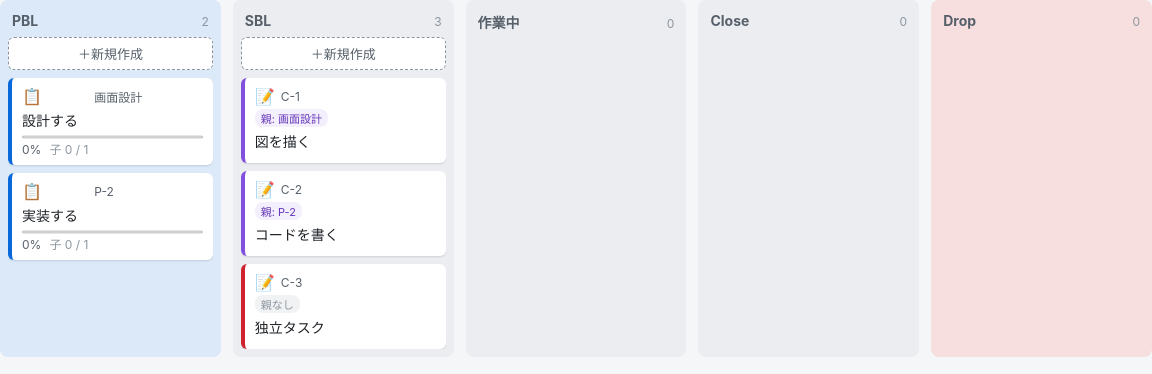
BoardView › 親アイテムによる絞り込み › フィルターバーに親のタイトルが表示され、✕チップで解除できる
Right-click the text "設計する": (50, 120) [22,112,78,129]
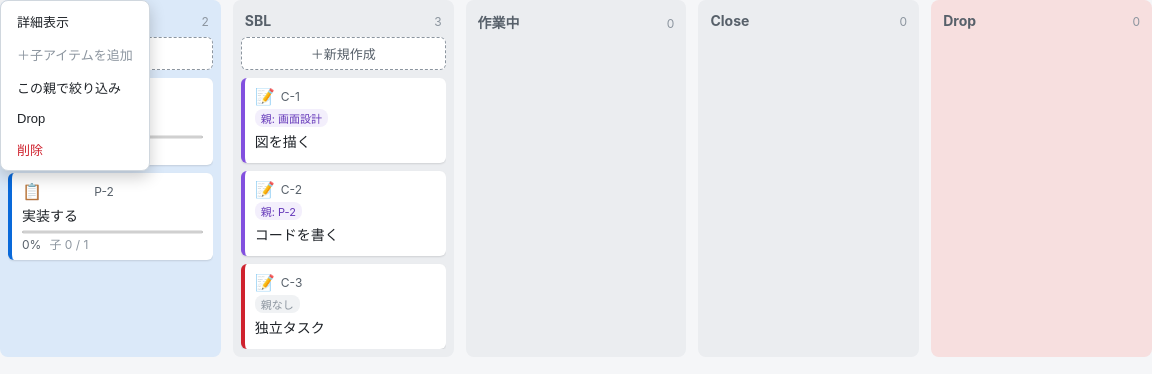
Click the menu item "この親で絞り込み": (75, 88) [5,71,145,104]
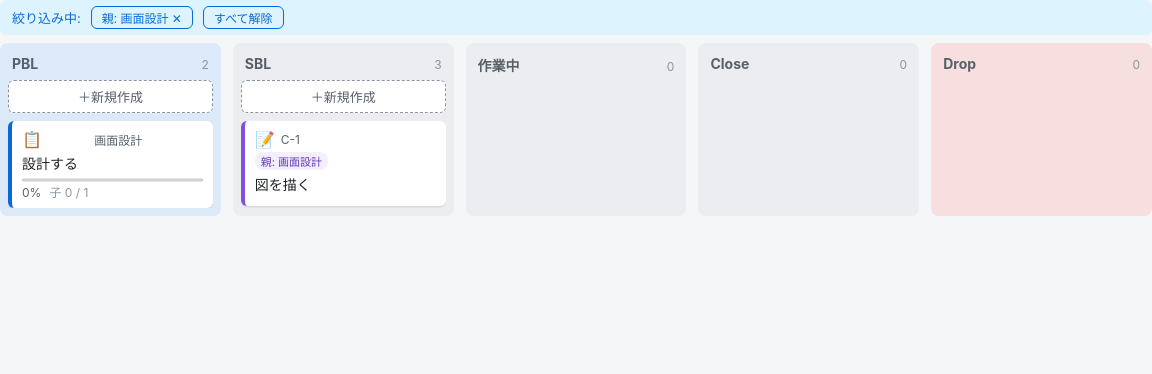
Expected: the button with aria-label "親アイテム「画面設計」の絞り込みを解除" shows "画面設計"
Click the button with aria-label "親アイテム「画面設計」の絞り込みを解除": (142, 18) [91,6,193,29]
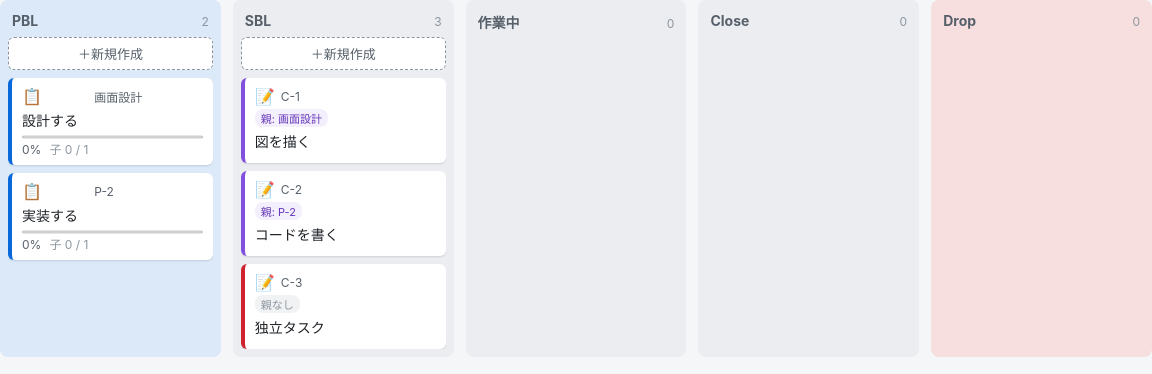
Expected: the text "実装する" is shown, [22,207,78,224]
Expected: the text "独立タスク" is shown, [255,319,325,336]
Expected: the text "絞り込み中" is gone
